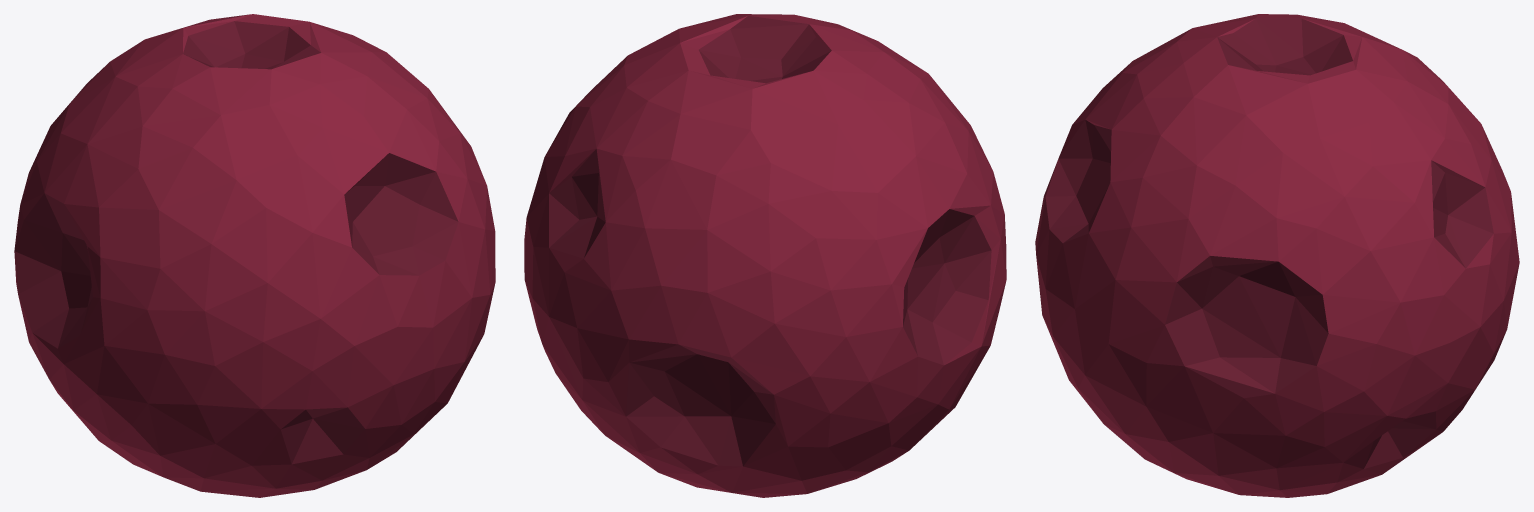
Rendered from planet_5.fbx.
3 renders of one model, left to right at view 1: azimuth 30°, elevation 25°; view 2: azimuth 150°, elevation 25°; view 3: azimuth 270°, elevation 25°, orthographic.
Parts seen in each view (by area): view 1: planet_5; view 2: planet_5; view 3: planet_5.
Part boxes in pixels (x1,y1,x2,y2): planet_5: (14,14,495,497); planet_5: (524,14,1006,497); planet_5: (1035,14,1519,497).
Bounding box in the file's own units: 590 × 577 × 572.
